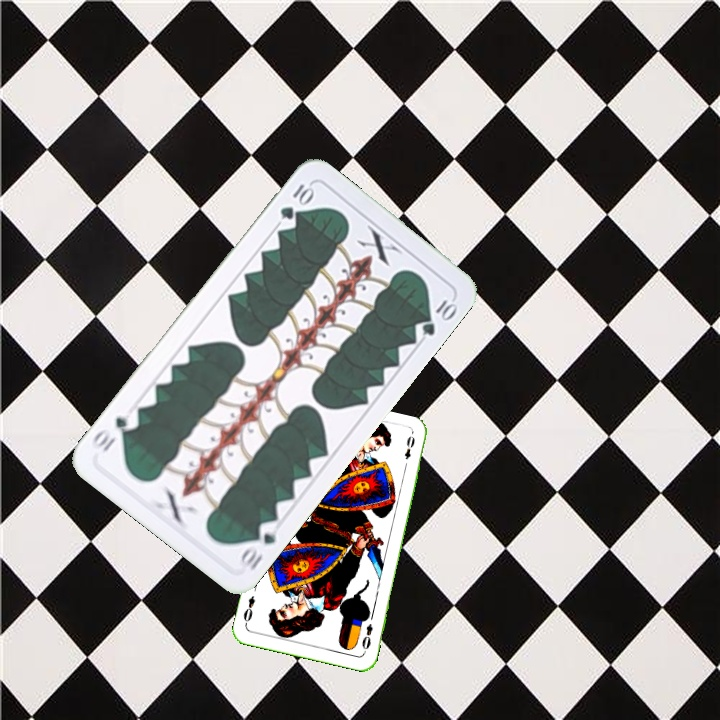EO: (358, 620, 375, 655)
G10: (236, 516, 282, 573), (275, 179, 316, 223)
